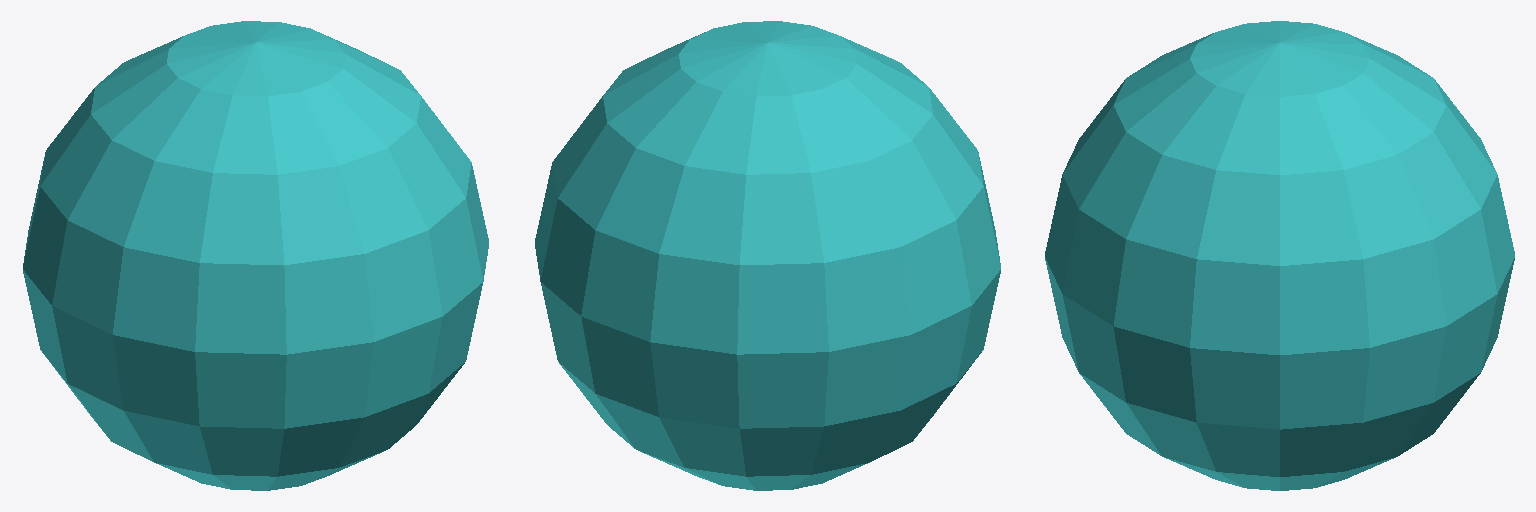
Rendered from sphere_lambertian_metal.obj.
3 renders of one model, left to right at view 1: azimuth 30°, elevation 25°; view 2: azimuth 150°, elevation 25°; view 3: azimuth 270°, elevation 25°, orthographic.
Visible parts, largest first — view 1: Sphere; view 2: Sphere; view 3: Sphere.
Part boxes in pixels (x1,y1,x2,y2): Sphere: (23, 21, 488, 490); Sphere: (535, 21, 1000, 490); Sphere: (1045, 21, 1514, 490).
Bounding box in the file's own units: 20 × 20 × 20.